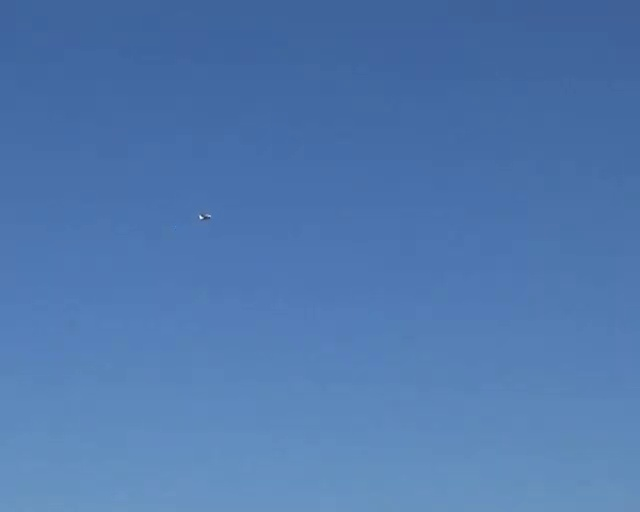AIRPLANE: (197, 211, 211, 221)
